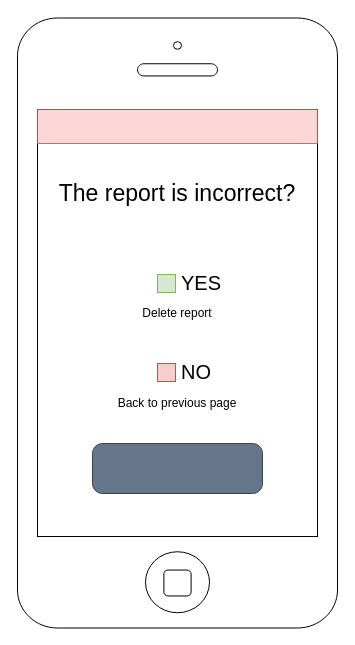
Some shapes in this 355 by 645 pixel diagram are drawn without their labels. The centre of each missing label's shape, as x and y in pixels:
"SEND" goes at point 177,468.
"Under investigation" goes at point 177,126.
